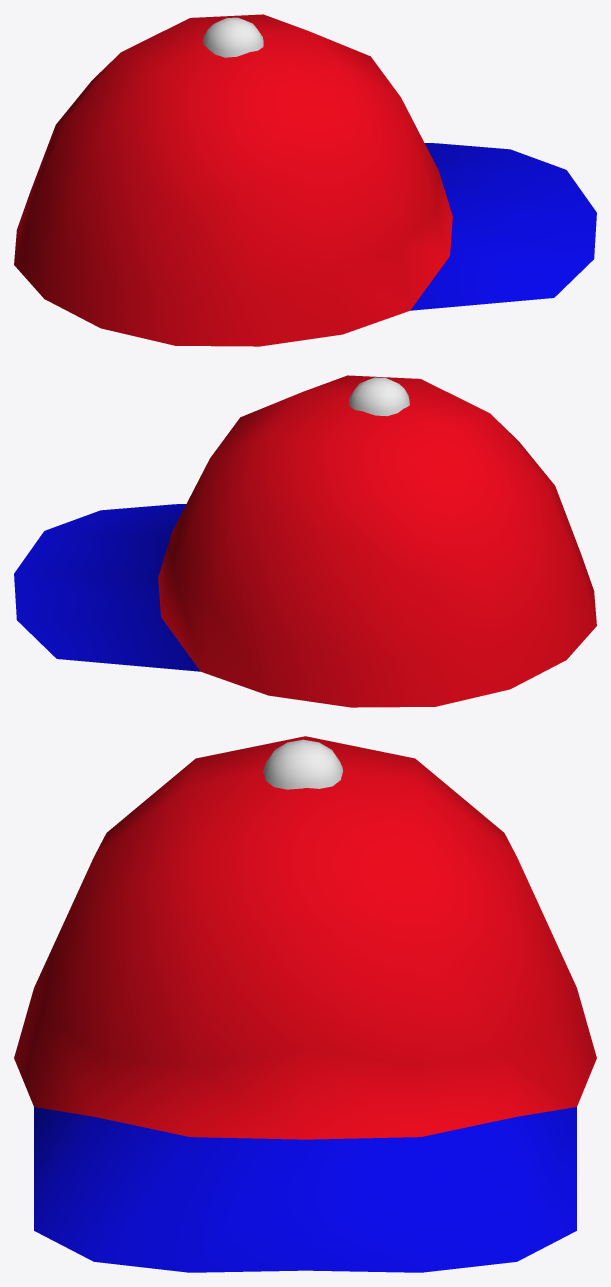
Rendered from HAT.glb.
The picture shows the model from 3 angles, top to bottom: view 1: azimuth 30°, elevation 25°; view 2: azimuth 150°, elevation 25°; view 3: azimuth 270°, elevation 25°; orthographic projection. The views are drawn at different scales.
Parts seen in each view (by area): view 1: Cube, Cube.001; view 2: Cube, Cube.001; view 3: Cube, Cube.001.
Part boxes in pixels (left/top/right/bottom): Cube: left=14, top=14, right=596, bottom=346; Cube.001: left=203, top=17, right=263, bottom=57; Cube: left=14, top=375, right=596, bottom=707; Cube.001: left=349, top=377, right=409, bottom=416; Cube: left=14, top=736, right=596, bottom=1272; Cube.001: left=263, top=739, right=343, bottom=789.
Bounding box in the file's own units: 2.32 × 1.09 × 1.68.
